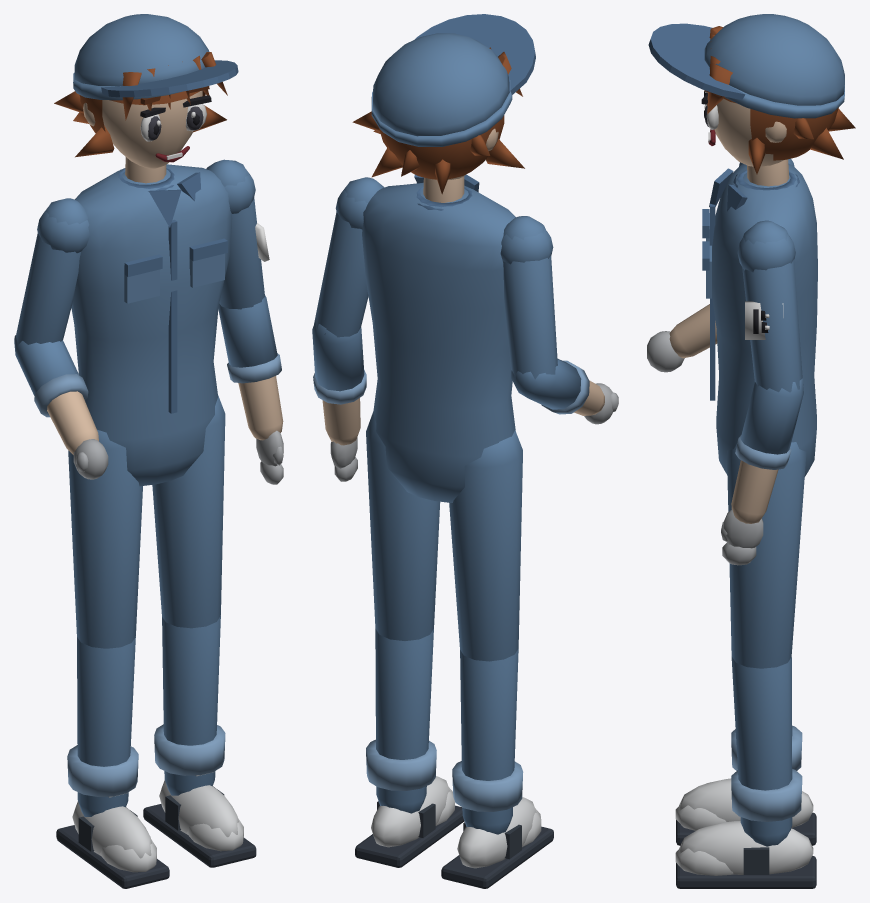
The model's file is b_cell.glb.
3 renders of one model, left to right at view 1: azimuth 30°, elevation 25°; view 2: azimuth 150°, elevation 25°; view 3: azimuth 270°, elevation 25°, orthographic. The views are drawn at different scales.
Parts seen in each view (by area): view 1: b_cell.body, b_cell.leg_r, b_cell.leg_l, b_cell.arm_r, b_cell.arm_l; view 2: b_cell.body, b_cell.leg_r, b_cell.leg_l, b_cell.arm_l, b_cell.arm_r; view 3: b_cell.body, b_cell.leg_l, b_cell.arm_l, b_cell.leg_r, b_cell.arm_r.
Boxes of the visible parts, x1=… form: b_cell.body: x1=54, y1=14, x2=238, y2=486; b_cell.leg_r: x1=56, y1=429, x2=169, y2=888; b_cell.leg_l: x1=143, y1=395, x2=256, y2=867; b_cell.arm_r: x1=14, y1=198, x2=108, y2=479; b_cell.arm_l: x1=206, y1=159, x2=283, y2=484; b_cell.body: x1=352, y1=14, x2=535, y2=502; b_cell.leg_r: x1=441, y1=430, x2=553, y2=888; b_cell.leg_l: x1=355, y1=412, x2=464, y2=867; b_cell.arm_l: x1=312, y1=177, x2=384, y2=481; b_cell.arm_r: x1=500, y1=216, x2=618, y2=424; b_cell.body: x1=648, y1=14, x2=855, y2=476; b_cell.leg_l: x1=675, y1=442, x2=816, y2=888; b_cell.arm_l: x1=721, y1=220, x2=803, y2=565; b_cell.leg_r: x1=675, y1=657, x2=816, y2=845; b_cell.arm_r: x1=647, y1=158, x2=794, y2=372.
Size of the model in its own units: 0.6112 by 1.88 by 0.4257.
